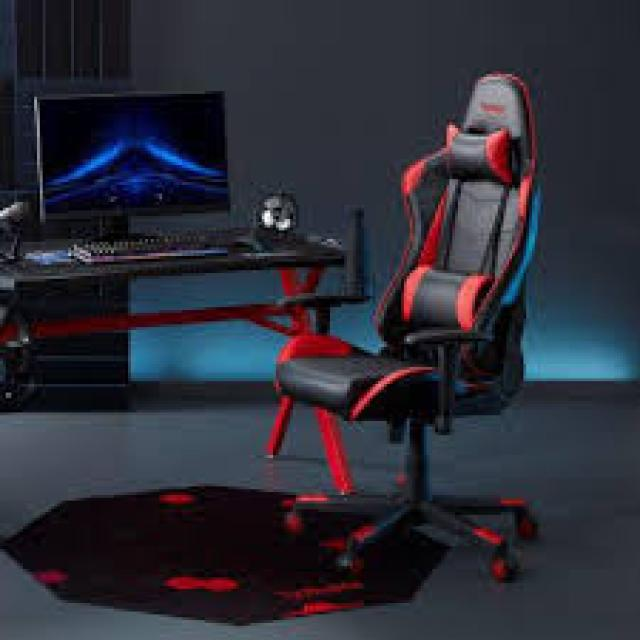chair: (268, 39, 602, 640)
